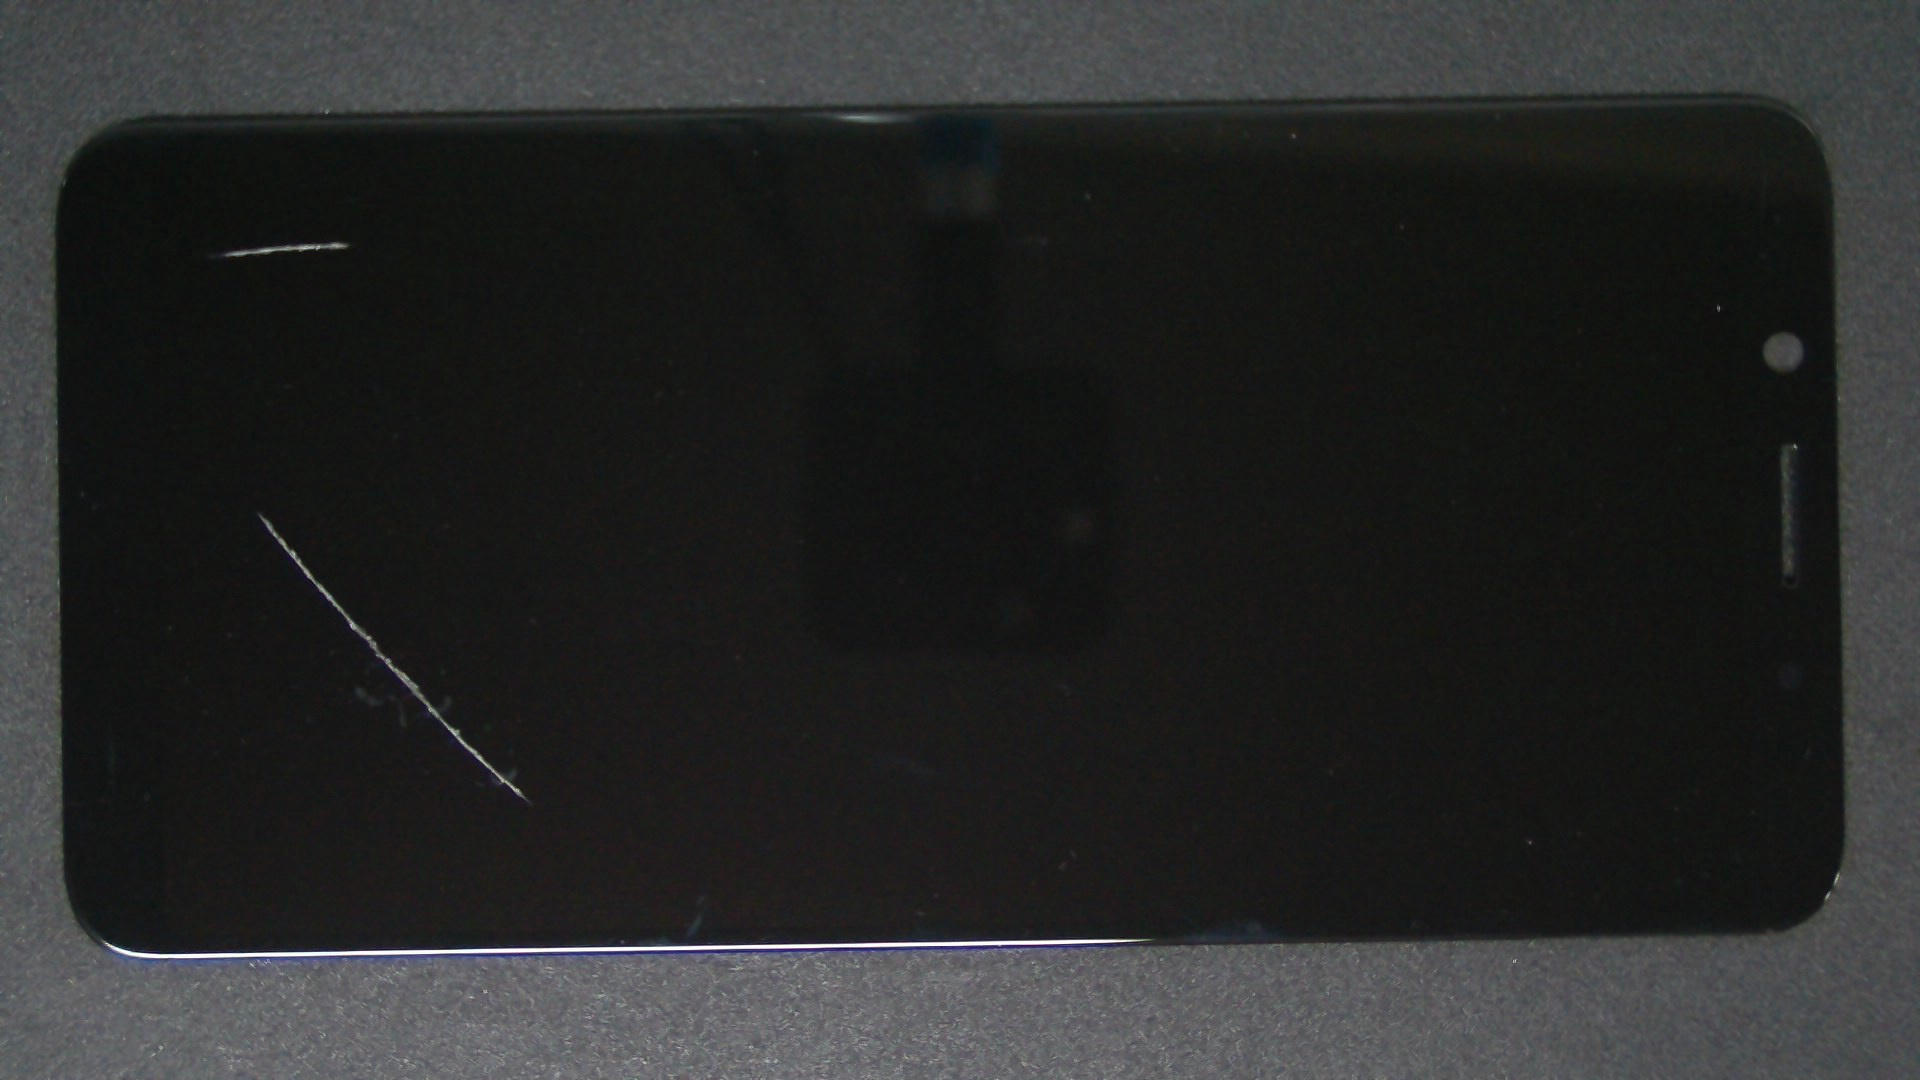oil: (128, 255, 385, 767), (166, 120, 495, 364)
